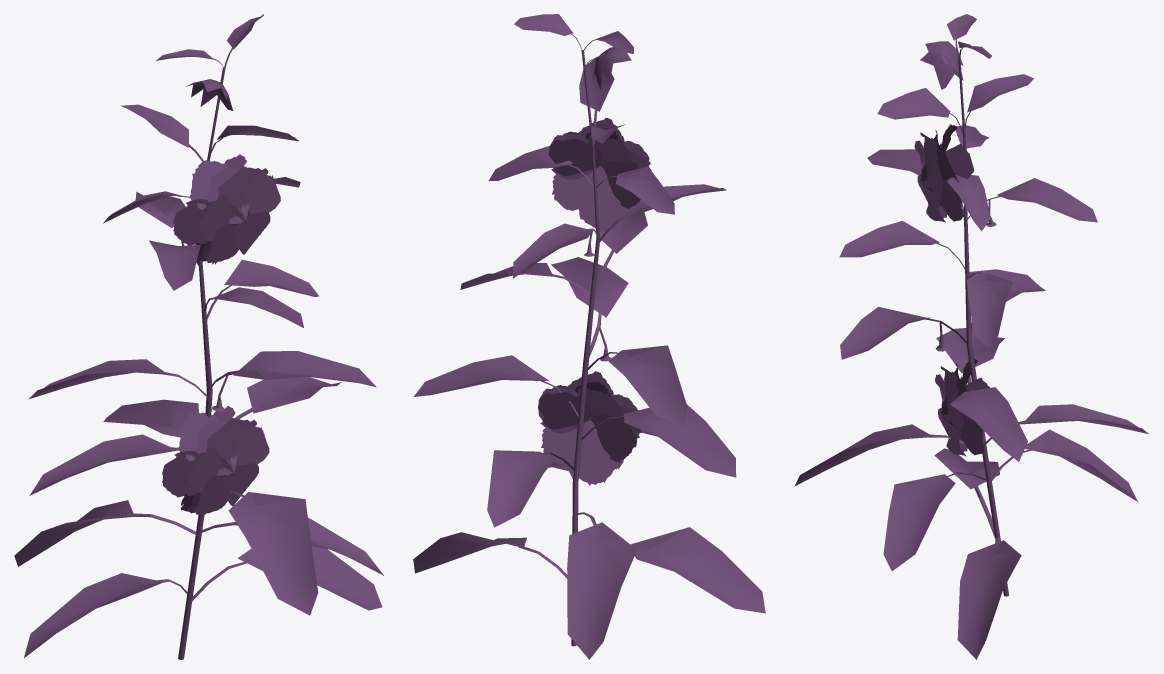
File: colour plant - Copy.fbx
3 views of the same model, side by side, from view 1: azimuth 30°, elevation 25°; view 2: azimuth 150°, elevation 25°; view 3: azimuth 270°, elevation 25° (orthographic). The views are drawn at different scales.
Parts seen in each view (by area): view 1: colour_plant1; view 2: colour_plant1; view 3: colour_plant1.
Boxes of the visible parts, left/top/right/bottom form: colour_plant1: left=14, top=14, right=383, bottom=659; colour_plant1: left=413, top=14, right=765, bottom=659; colour_plant1: left=794, top=14, right=1148, bottom=659.
Size of the model in its own units: 154 by 257 by 144.
